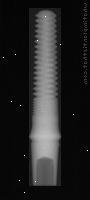Implant Direct: (26, 8, 62, 186)
